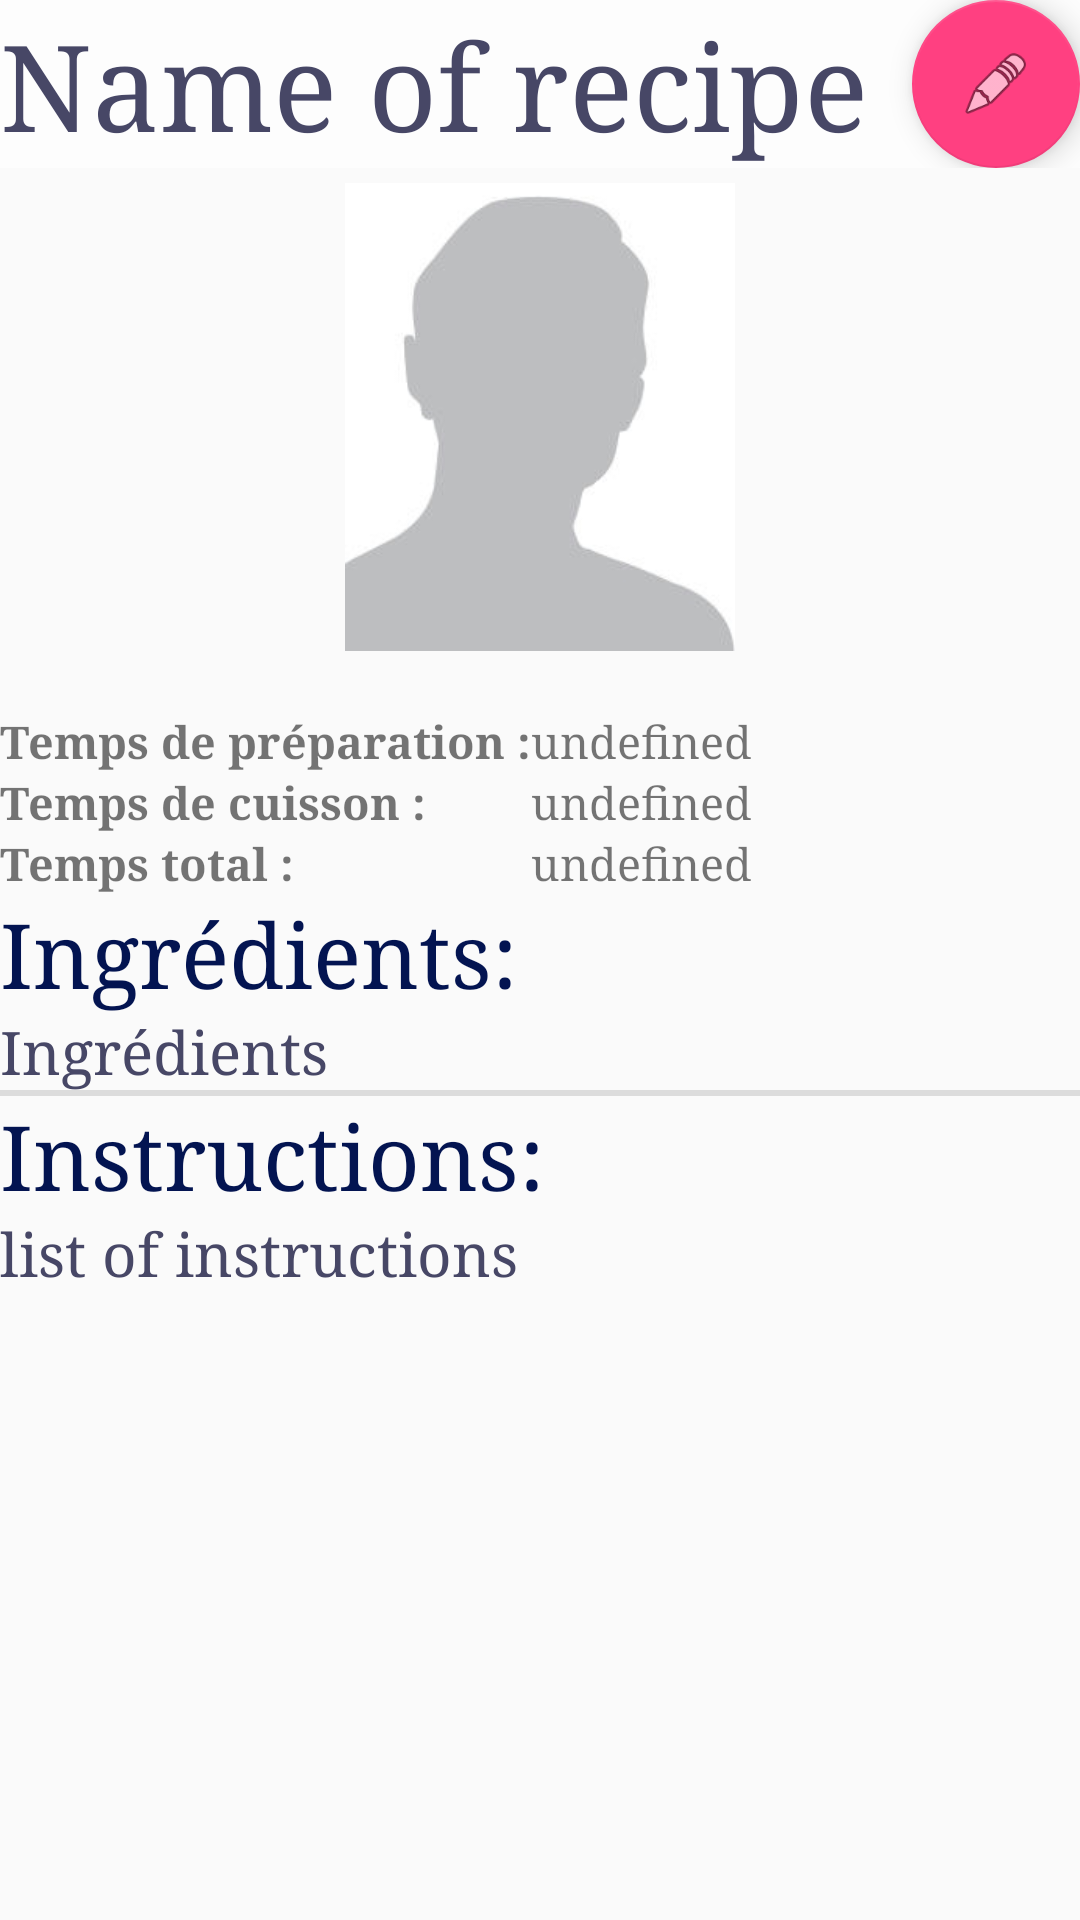

Screen size 1080x1920. Icon name, then its center in pixels as [x,y]:
edit: [996,84]
